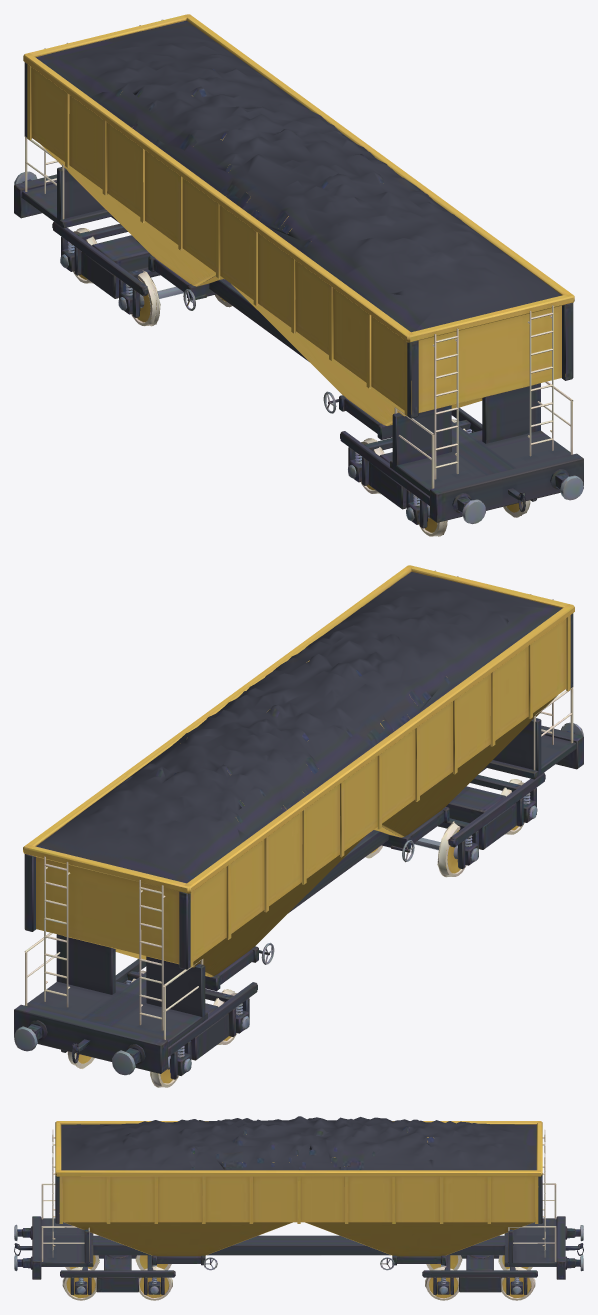
Rendered from vagon_tolva.glb.
3 renders of one model, top to bottom at view 1: azimuth 30°, elevation 25°; view 2: azimuth 150°, elevation 25°; view 3: azimuth 270°, elevation 25°, orthographic. The views are drawn at different scales.
Visible parts, largest first — view 1: hopper-car_body; view 2: hopper-car_body; view 3: hopper-car_body.
Part boxes in pixels (x1,y1,x2,y2): hopper-car_body: (14,14,583,536); hopper-car_body: (14,565,583,1087); hopper-car_body: (14,1116,583,1300).
Bounding box in the file's own units: 3 × 4.36 × 14.
Materials: 1 (1 with a texture image).
